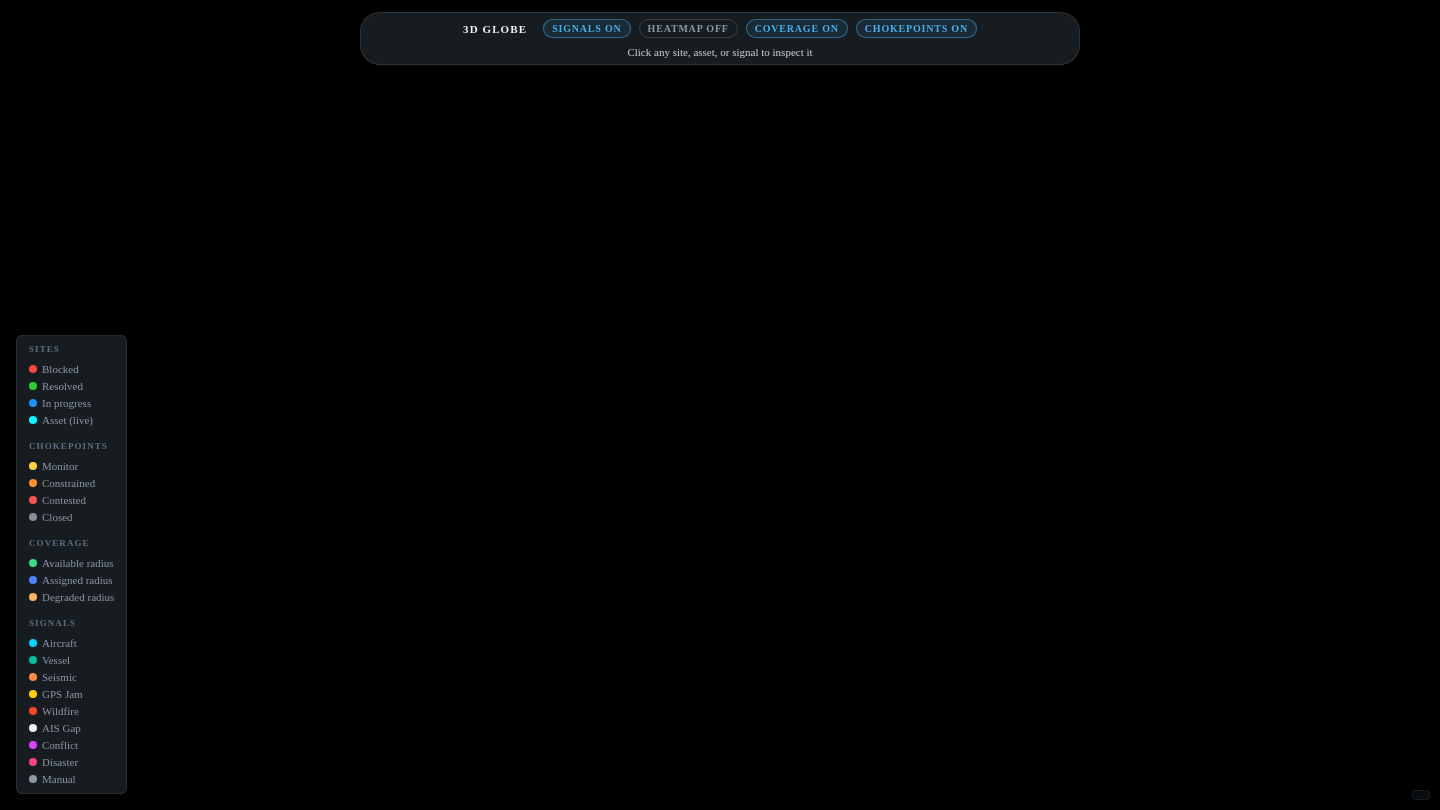
Test: GlobePage selection routing › toggles the chokepoint overlay through globe page state
The width and height of the screenshot is (1440, 810).
Expected: the text "Monitor" is shown, [29, 460, 78, 472]
Click the button "CHOKEPOINTS ON": (916, 28) [856, 19, 977, 38]
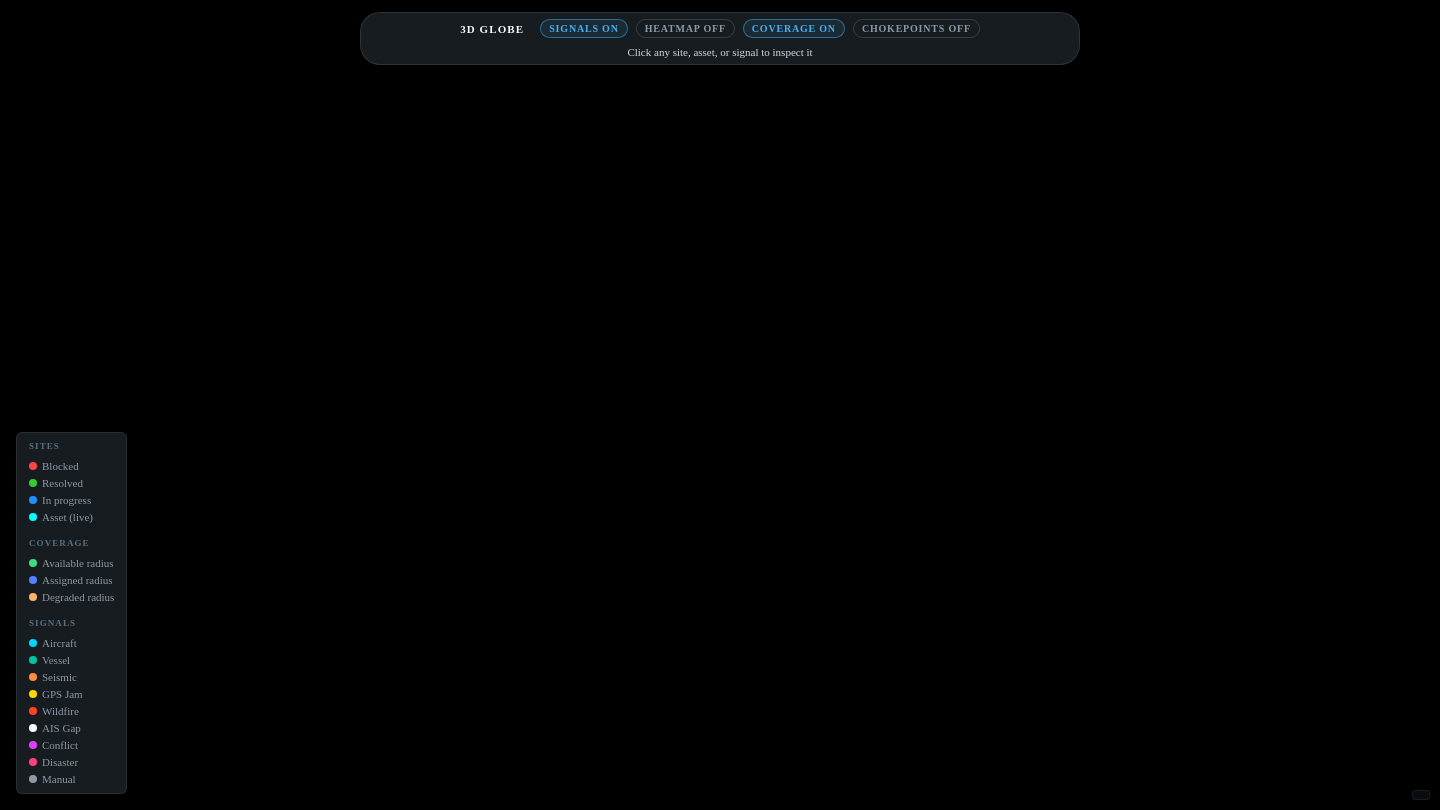
Now the button "CHOKEPOINTS OFF" is shown, box [853, 19, 980, 38]
Now the text "Monitor" is gone
